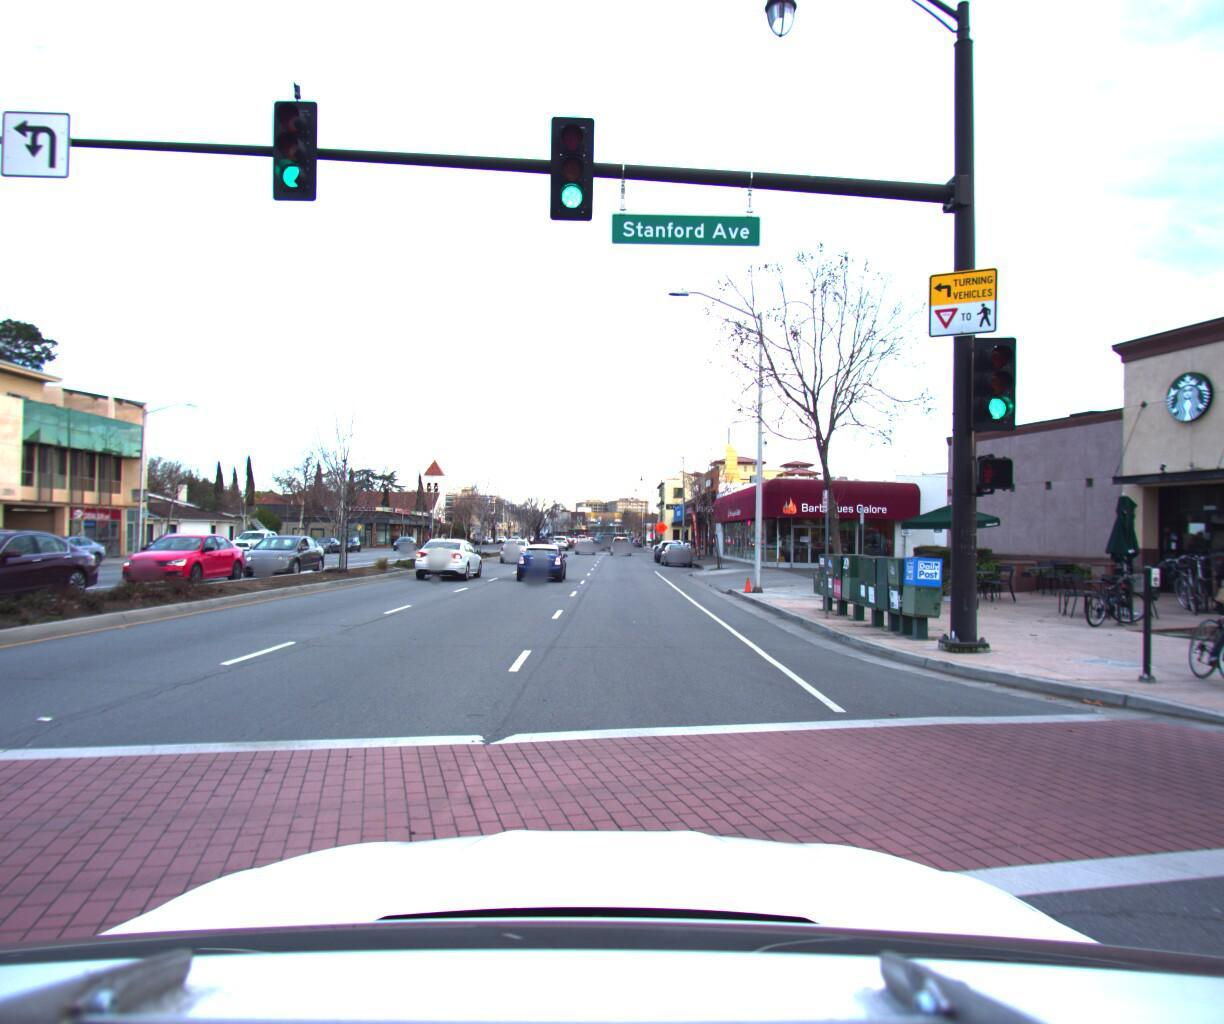bicycle: (1144, 517, 1224, 696), (1065, 560, 1157, 620), (1160, 545, 1197, 607)
car: (110, 521, 258, 583), (232, 525, 332, 573), (407, 536, 483, 584), (6, 529, 111, 563), (513, 535, 569, 575), (229, 521, 288, 549), (496, 530, 534, 558), (657, 533, 693, 559), (610, 531, 633, 551), (574, 529, 599, 548)
